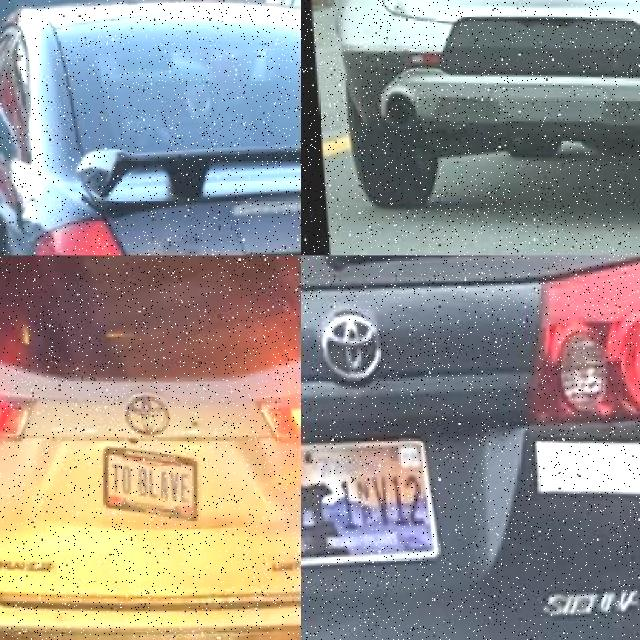licenseplate: (300, 430, 439, 564), (100, 441, 196, 518)
